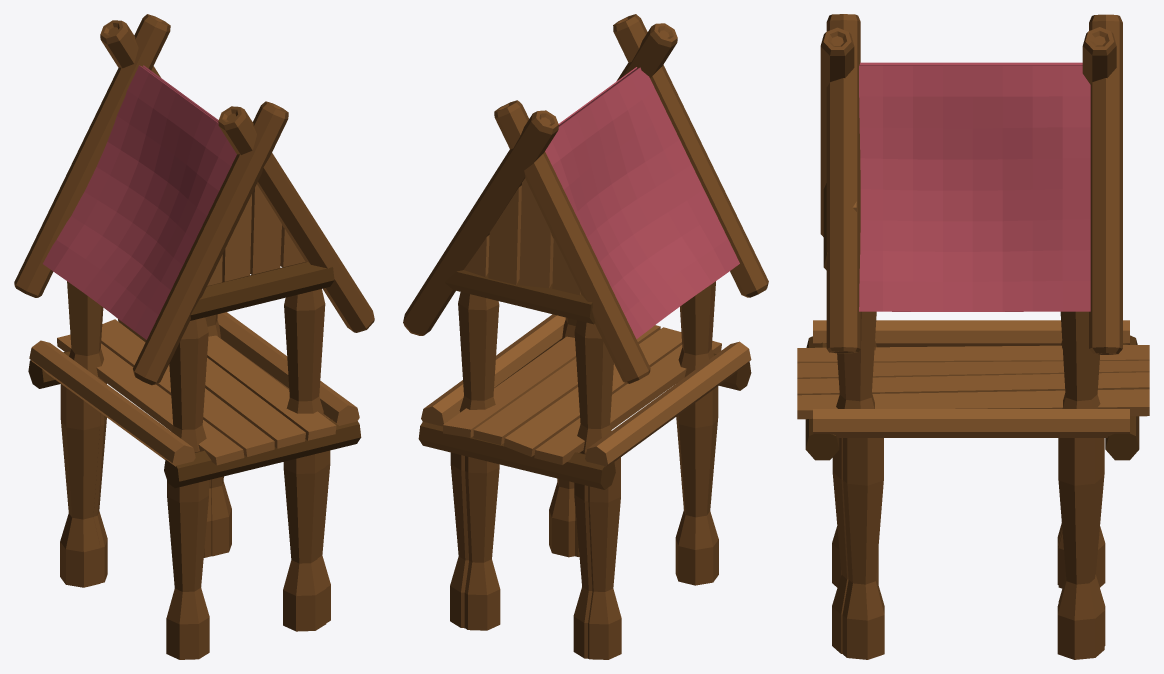
The model's file is B_B_TowerRed.fbx.
3 renders of one model, left to right at view 1: azimuth 30°, elevation 25°; view 2: azimuth 150°, elevation 25°; view 3: azimuth 270°, elevation 25°, orthographic. The views are drawn at different scales.
Parts seen in each view (by area): view 1: B_B_TowerRed; view 2: B_B_TowerRed; view 3: B_B_TowerRed.
Boxes of the visible parts, x1,y1,x2,y2 form: B_B_TowerRed: (14, 14, 374, 659); B_B_TowerRed: (403, 14, 768, 659); B_B_TowerRed: (797, 14, 1149, 659).
Bounding box in the file's own units: 345 × 733 × 394.
